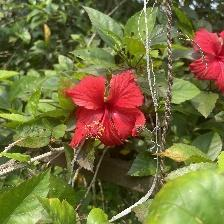hibiscus: (60, 71, 153, 152)
